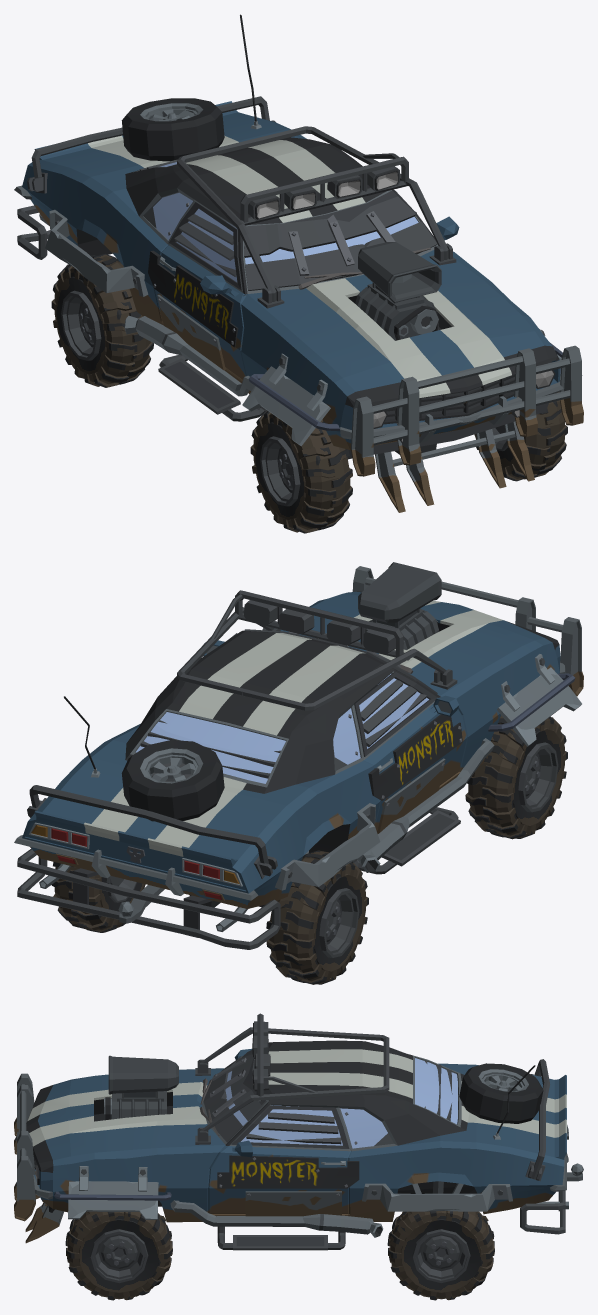
Rendered from SM_Veh_Muscle_.fbx.
The picture shows the model from 3 angles, top to bottom: view 1: azimuth 30°, elevation 25°; view 2: azimuth 150°, elevation 25°; view 3: azimuth 270°, elevation 25°; orthographic projection. The views are drawn at different scales.
Visible parts, largest first — view 1: SM_Veh_Muscle_01, SM_Veh_Muscle_Armour_01, SM_Veh_Muscle_Glass_Armour_01, SM_Veh_Muscle_Wheel_fr, SM_Veh_Muscle_Wheel_rr, SM_Veh_Muscle_Block_01, SM_Veh_Muscle_Glass_01, SM_Veh_Muscle_Wheel_fl; view 2: SM_Veh_Muscle_01, SM_Veh_Muscle_Armour_01, SM_Veh_Muscle_Wheel_rr, SM_Veh_Muscle_Wheel_fr, SM_Veh_Muscle_Glass_01, SM_Veh_Muscle_Block_01, SM_Veh_Muscle_Glass_Armour_01, SM_Veh_Muscle_Wheel_rl; view 3: SM_Veh_Muscle_01, SM_Veh_Muscle_Armour_01, SM_Veh_Muscle_Wheel_rl, SM_Veh_Muscle_Wheel_fl, SM_Veh_Muscle_Glass_Armour_01, SM_Veh_Muscle_Glass_01, SM_Veh_Muscle_Block_01.
Boxes of the visible parts, box(x1,y1,x2,y2) form: SM_Veh_Muscle_01: box(14, 14, 563, 454); SM_Veh_Muscle_Armour_01: box(17, 96, 583, 512); SM_Veh_Muscle_Glass_Armour_01: box(139, 160, 437, 290); SM_Veh_Muscle_Wheel_fr: box(250, 410, 352, 533); SM_Veh_Muscle_Wheel_rr: box(51, 253, 153, 387); SM_Veh_Muscle_Block_01: box(355, 242, 441, 340); SM_Veh_Muscle_Glass_01: box(153, 162, 418, 282); SM_Veh_Muscle_Wheel_fl: box(474, 392, 567, 481); SM_Veh_Muscle_01: box(14, 591, 565, 931); SM_Veh_Muscle_Armour_01: box(17, 566, 583, 949); SM_Veh_Muscle_Wheel_rr: box(266, 850, 368, 984); SM_Veh_Muscle_Wheel_fr: box(465, 715, 567, 839); SM_Veh_Muscle_Glass_01: box(136, 673, 428, 783); SM_Veh_Muscle_Block_01: box(358, 562, 441, 649); SM_Veh_Muscle_Glass_Armour_01: box(140, 629, 437, 778); SM_Veh_Muscle_Wheel_rl: box(51, 862, 145, 932); SM_Veh_Muscle_01: box(26, 1040, 568, 1222); SM_Veh_Muscle_Armour_01: box(14, 1013, 583, 1250); SM_Veh_Muscle_Wheel_rl: box(387, 1211, 494, 1300); SM_Veh_Muscle_Wheel_fl: box(65, 1211, 172, 1300); SM_Veh_Muscle_Glass_Armour_01: box(203, 1049, 452, 1148); SM_Veh_Muscle_Glass_01: box(225, 1058, 457, 1148); SM_Veh_Muscle_Block_01: box(104, 1055, 178, 1120).
Size of the model in its own units: 276 by 253 by 585.
